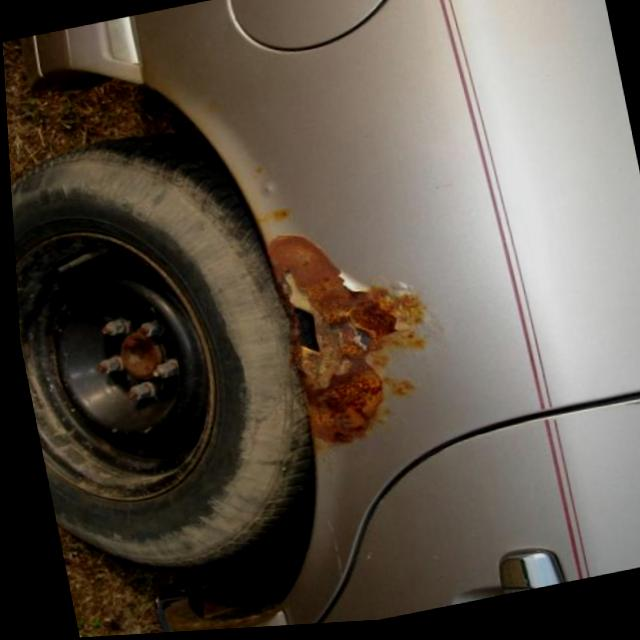Rust: (265, 228, 437, 463), (119, 332, 163, 379), (252, 204, 294, 231)
